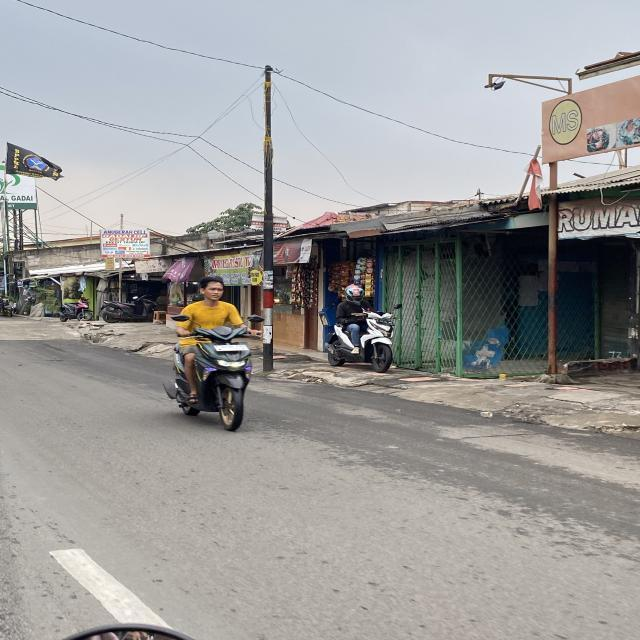Helmet: (345, 284, 363, 301)
Number Plate: (215, 344, 245, 351)
Rearview Mirror: (65, 624, 191, 639), (247, 314, 263, 322), (171, 314, 189, 321), (393, 303, 402, 309)
